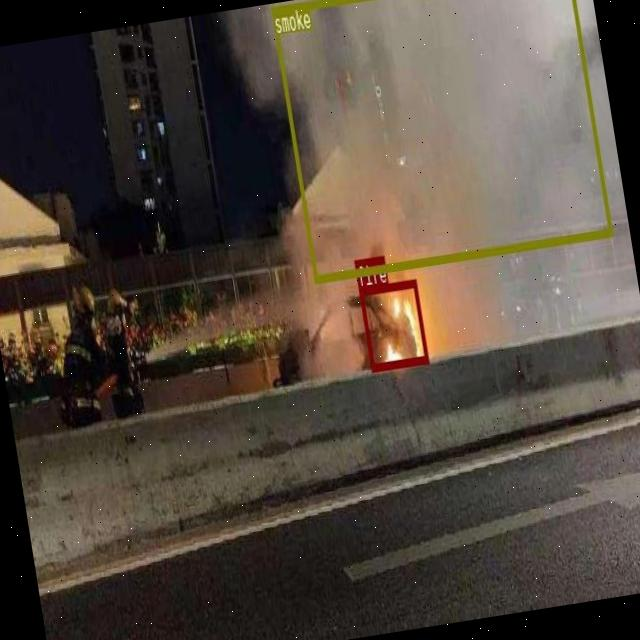fire: (358, 278, 428, 371)
smoke: (271, 0, 612, 281)
